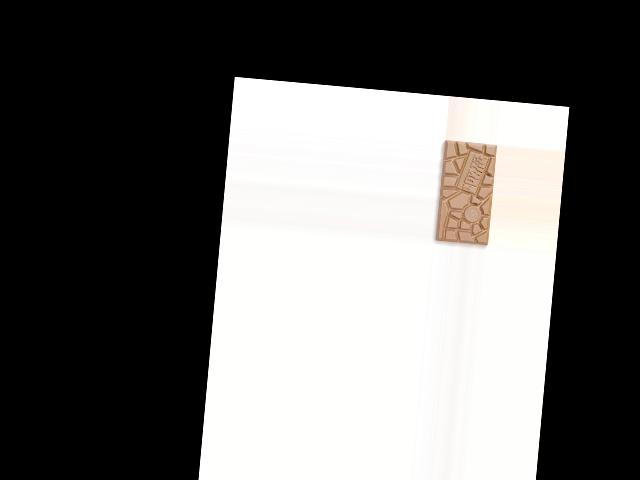chocolate: (432, 139, 496, 246)
